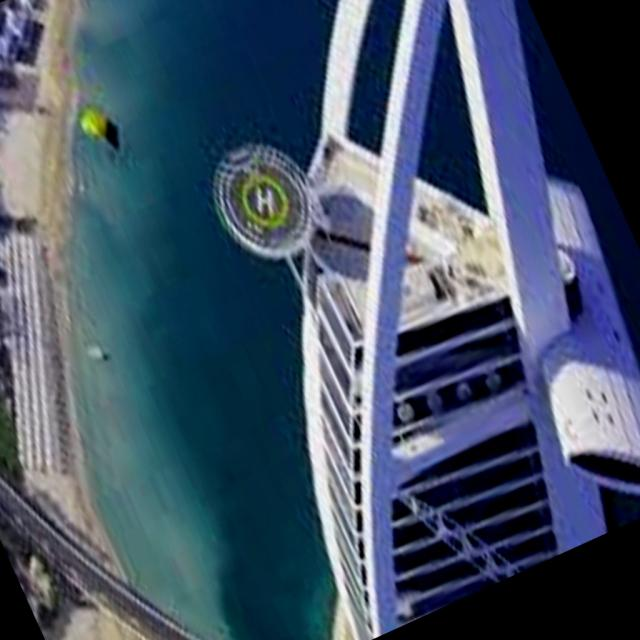helipad: (238, 171, 289, 229)
